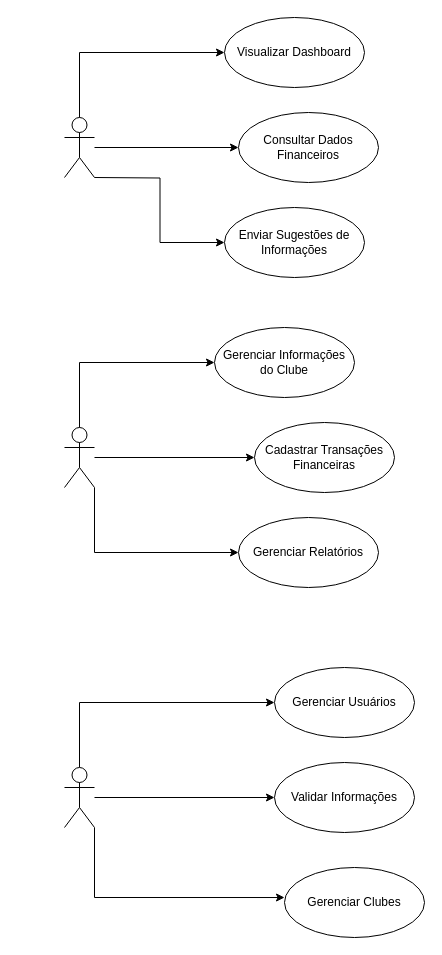
Image size: 442x955. Some labels were removed from this diagram. Each missing label, with the centre of its shape:
Administrador do Clube: the point at 79,457
Administrador Geral: the point at 79,797
Usuário / Torcedor: the point at 79,147
